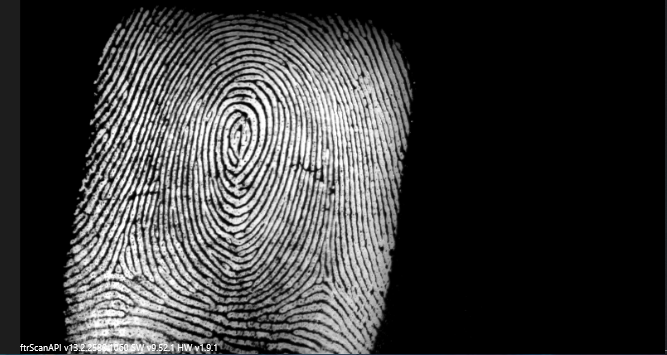nucelo: (215, 105, 264, 167)
verticilo: (96, 257, 137, 283), (307, 265, 337, 298)
